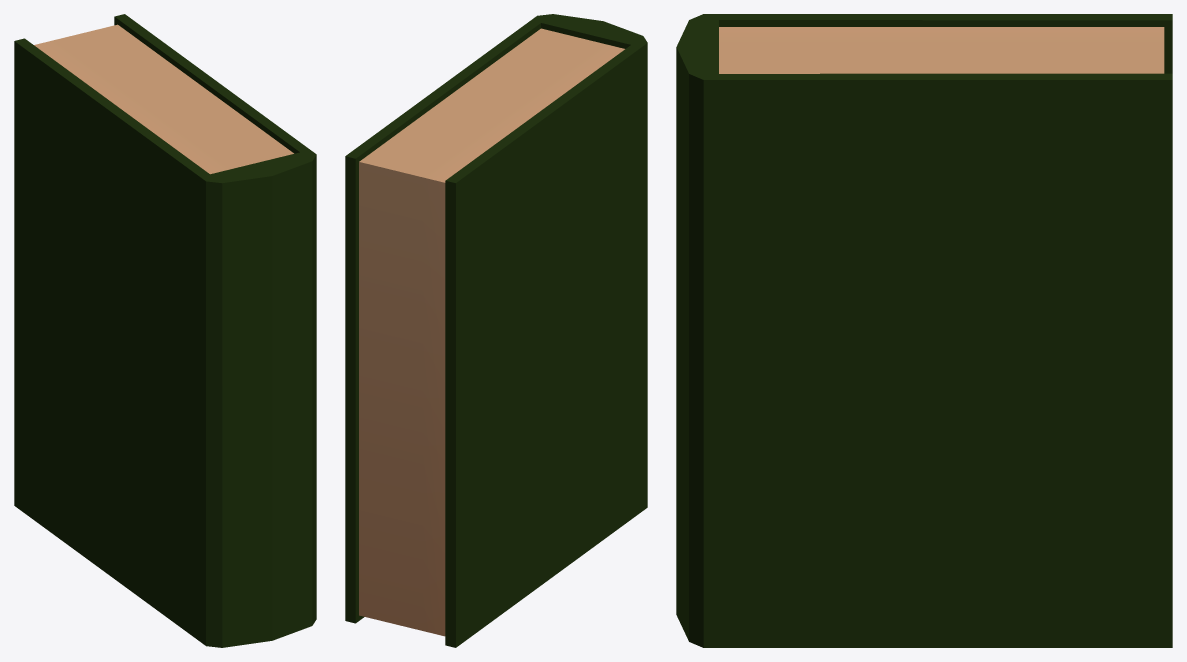
File: Book_green_A.fbx
3 renders of one model, left to right at view 1: azimuth 30°, elevation 25°; view 2: azimuth 150°, elevation 25°; view 3: azimuth 270°, elevation 25°, orthographic. The views are drawn at different scales.
Visible parts, largest first — view 1: Book_green_A; view 2: Book_green_A; view 3: Book_green_A.
Boxes of the visible parts, x1=… form: Book_green_A: x1=14, y1=14, x2=316, y2=647; Book_green_A: x1=345, y1=14, x2=647, y2=647; Book_green_A: x1=676, y1=14, x2=1172, y2=647.
Bounding box in the file's own units: 6.32 × 25.38 × 20.08.
